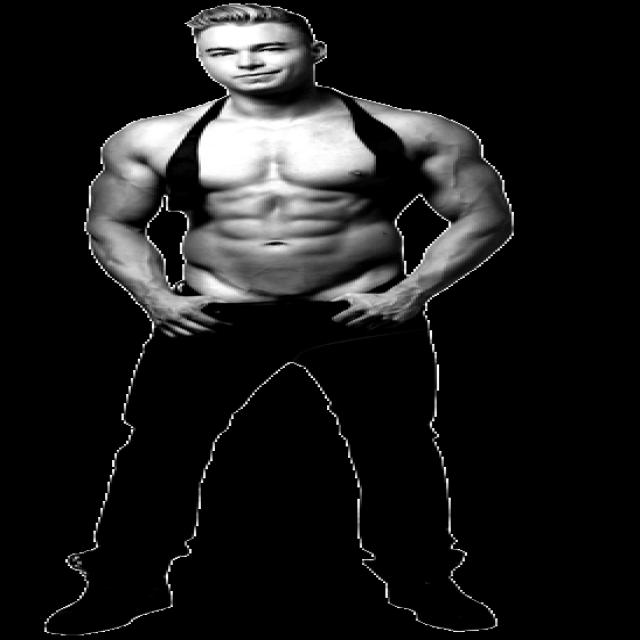mobile_phonerotation: (42, 2, 516, 637)
